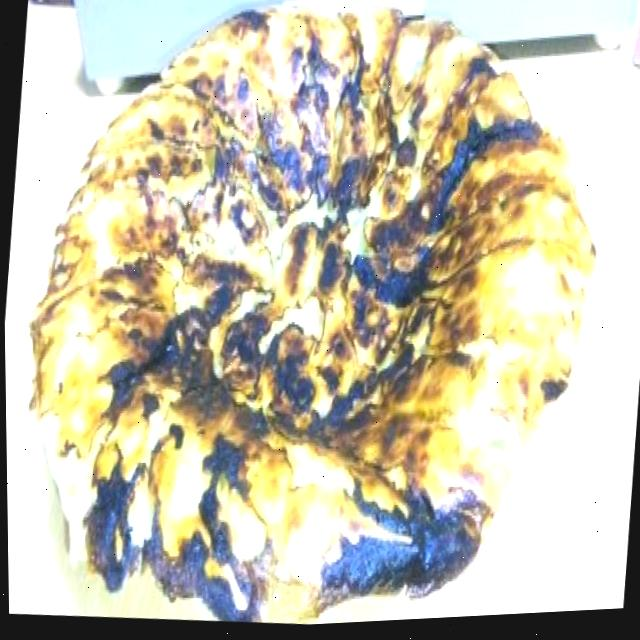带馅早点: (9, 0, 606, 640)
